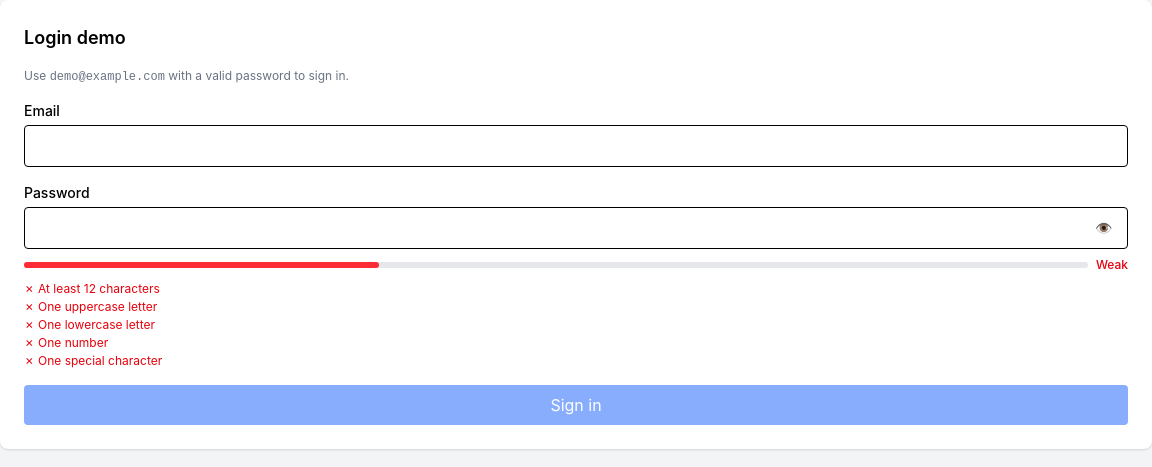
it: LoginDemo › enables submit once email and password are valid
In the field labelled "Email": (576, 146) [24, 125, 1128, 167], type "demo@example.com"
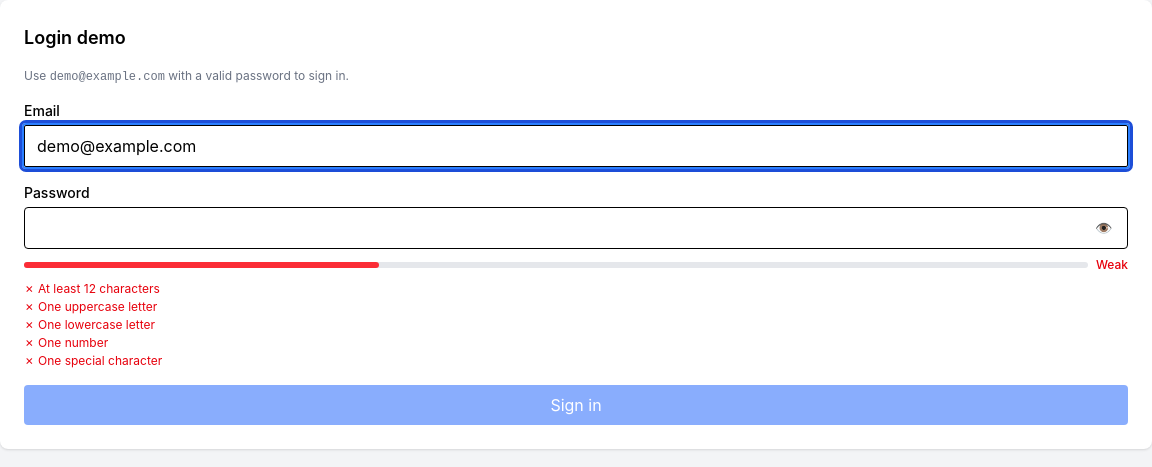
In the password field named "Password": (576, 228) [24, 207, 1128, 249], type "Str0ng!Pass12"
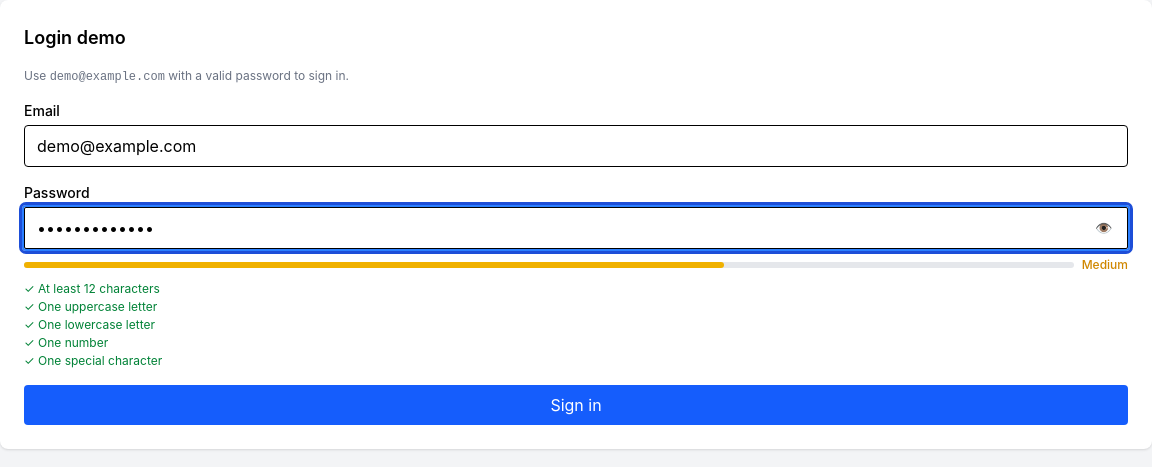
Expected: the button "Sign in" is enabled, [24, 385, 1128, 425]
